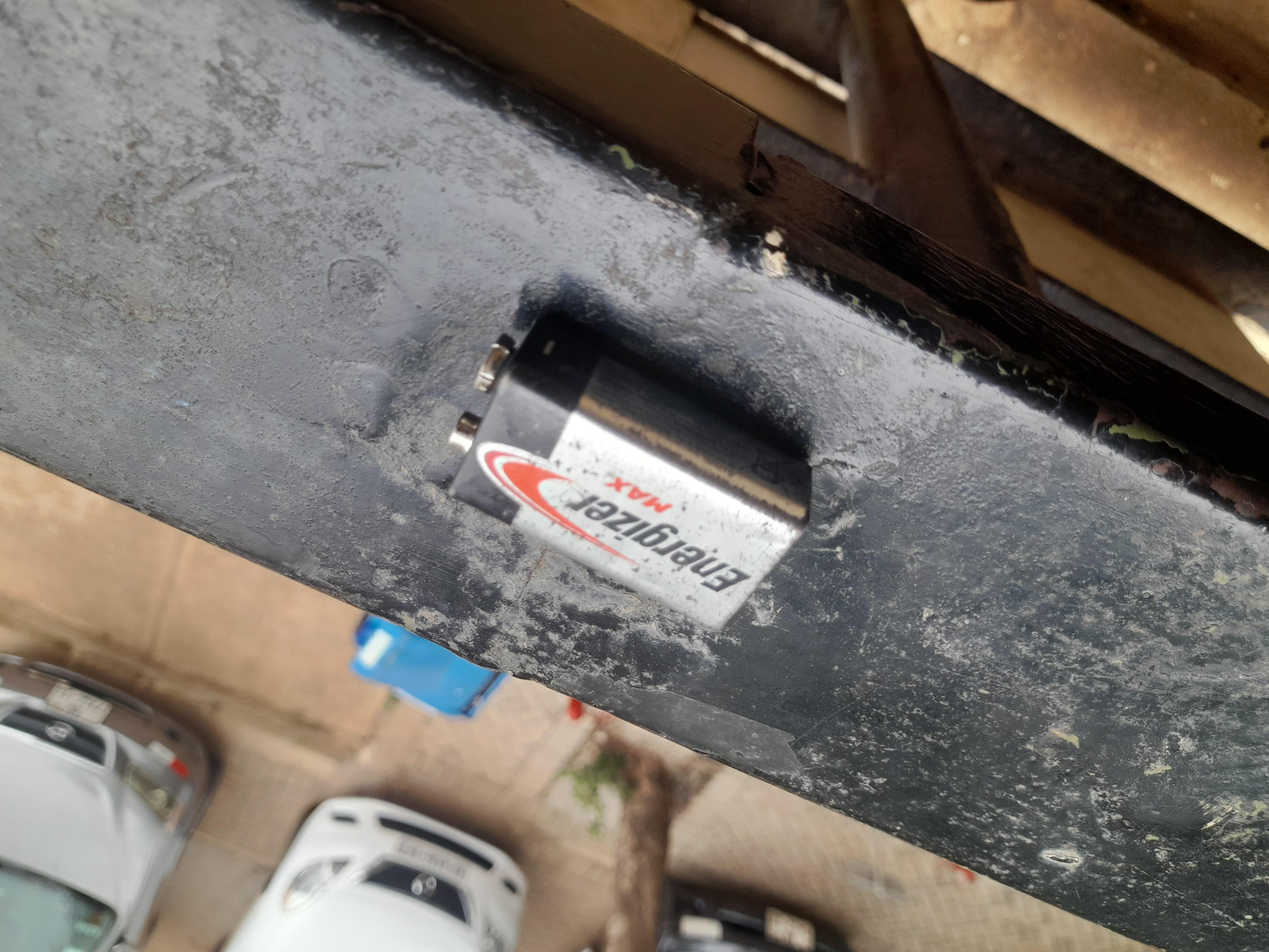9V: (438, 289, 829, 658)
